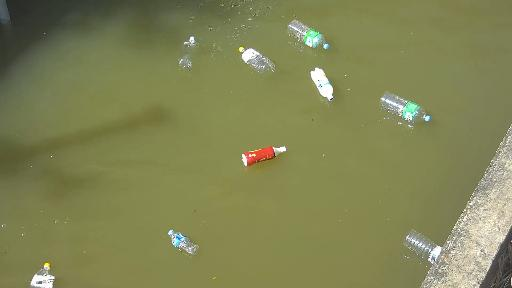plastic: (363, 82, 433, 126), (268, 14, 332, 50), (395, 222, 448, 261), (175, 29, 215, 78), (232, 142, 300, 169), (306, 64, 353, 103), (231, 47, 288, 77), (158, 229, 203, 256), (23, 262, 66, 283)
